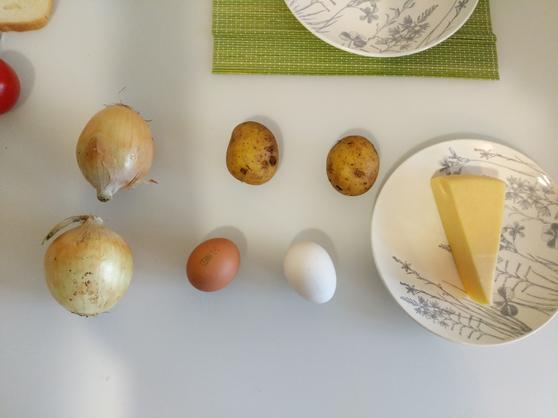cheese: (432, 175, 509, 309)
egg: (282, 237, 338, 305), (186, 237, 242, 293)
onion: (42, 215, 132, 319), (79, 100, 155, 200)
potato: (224, 122, 278, 186), (327, 136, 381, 197)
